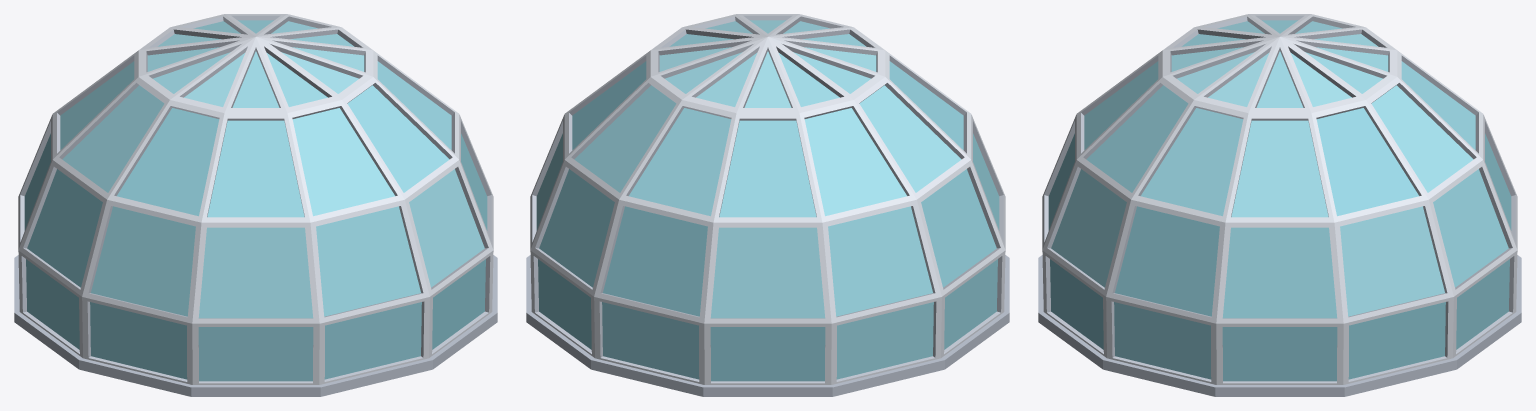
The model's file is f.sphera_2.gltf.
3 views of the same model, side by side, from view 1: azimuth 30°, elevation 25°; view 2: azimuth 150°, elevation 25°; view 3: azimuth 270°, elevation 25° (orthographic).
Parts seen in each view (by area): view 1: sphere_2; view 2: sphere_2; view 3: sphere_2.
Part boxes in pixels (left/top/right/bottom): sphere_2: left=14, top=14, right=497, bottom=396; sphere_2: left=526, top=14, right=1009, bottom=396; sphere_2: left=1038, top=14, right=1521, bottom=396.
Size of the model in its own units: 7.45 by 4.39 by 7.45.
1 material, 1 textured.
